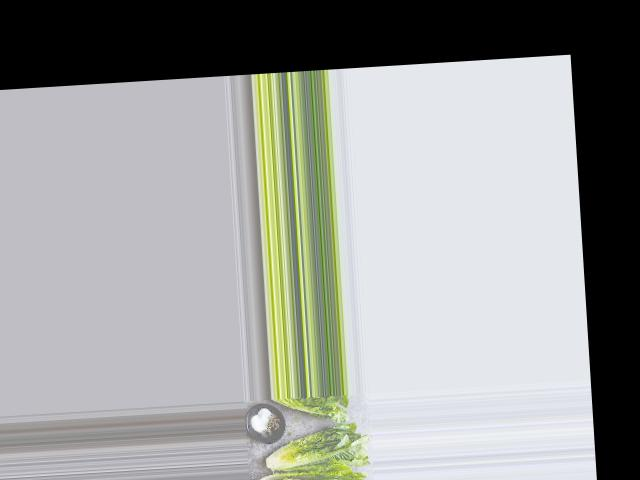lettuce: (248, 464, 358, 480)
